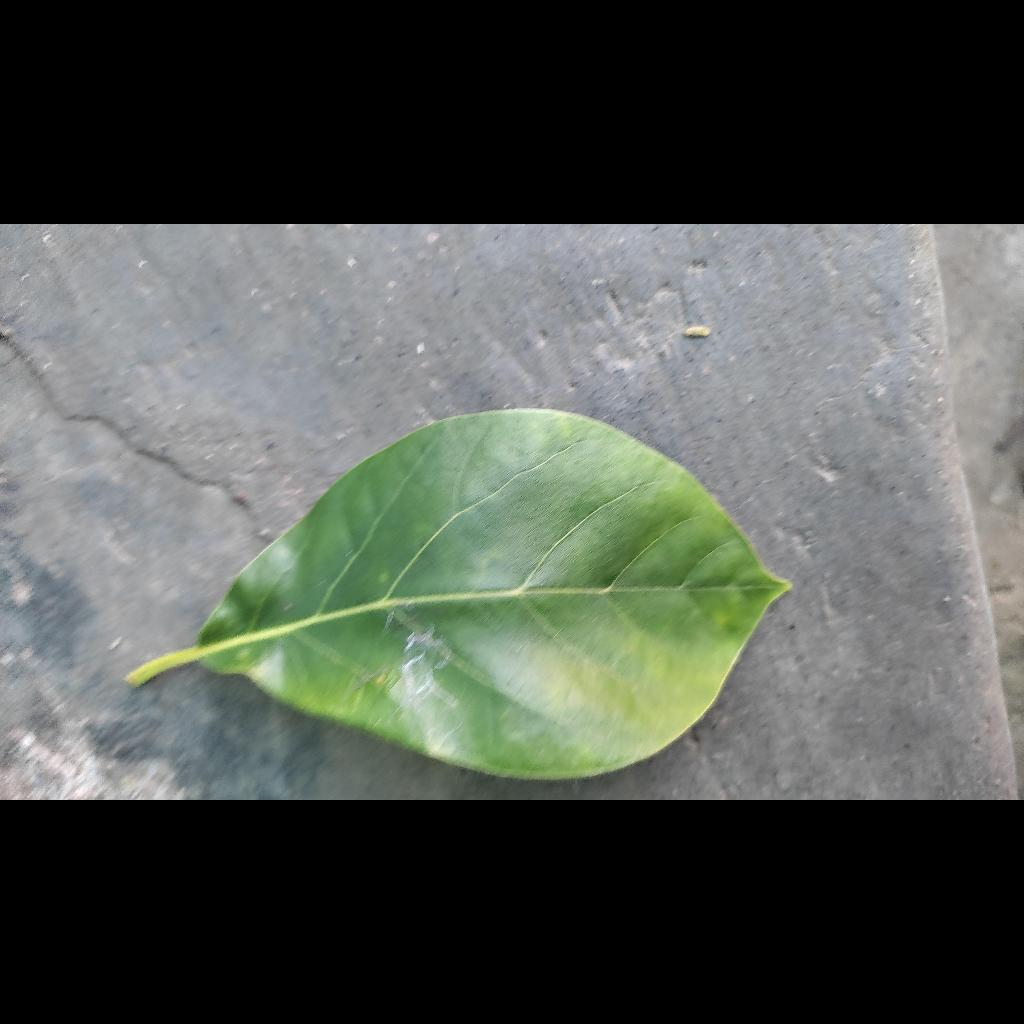powdery_mildew: (365, 602, 477, 756)
